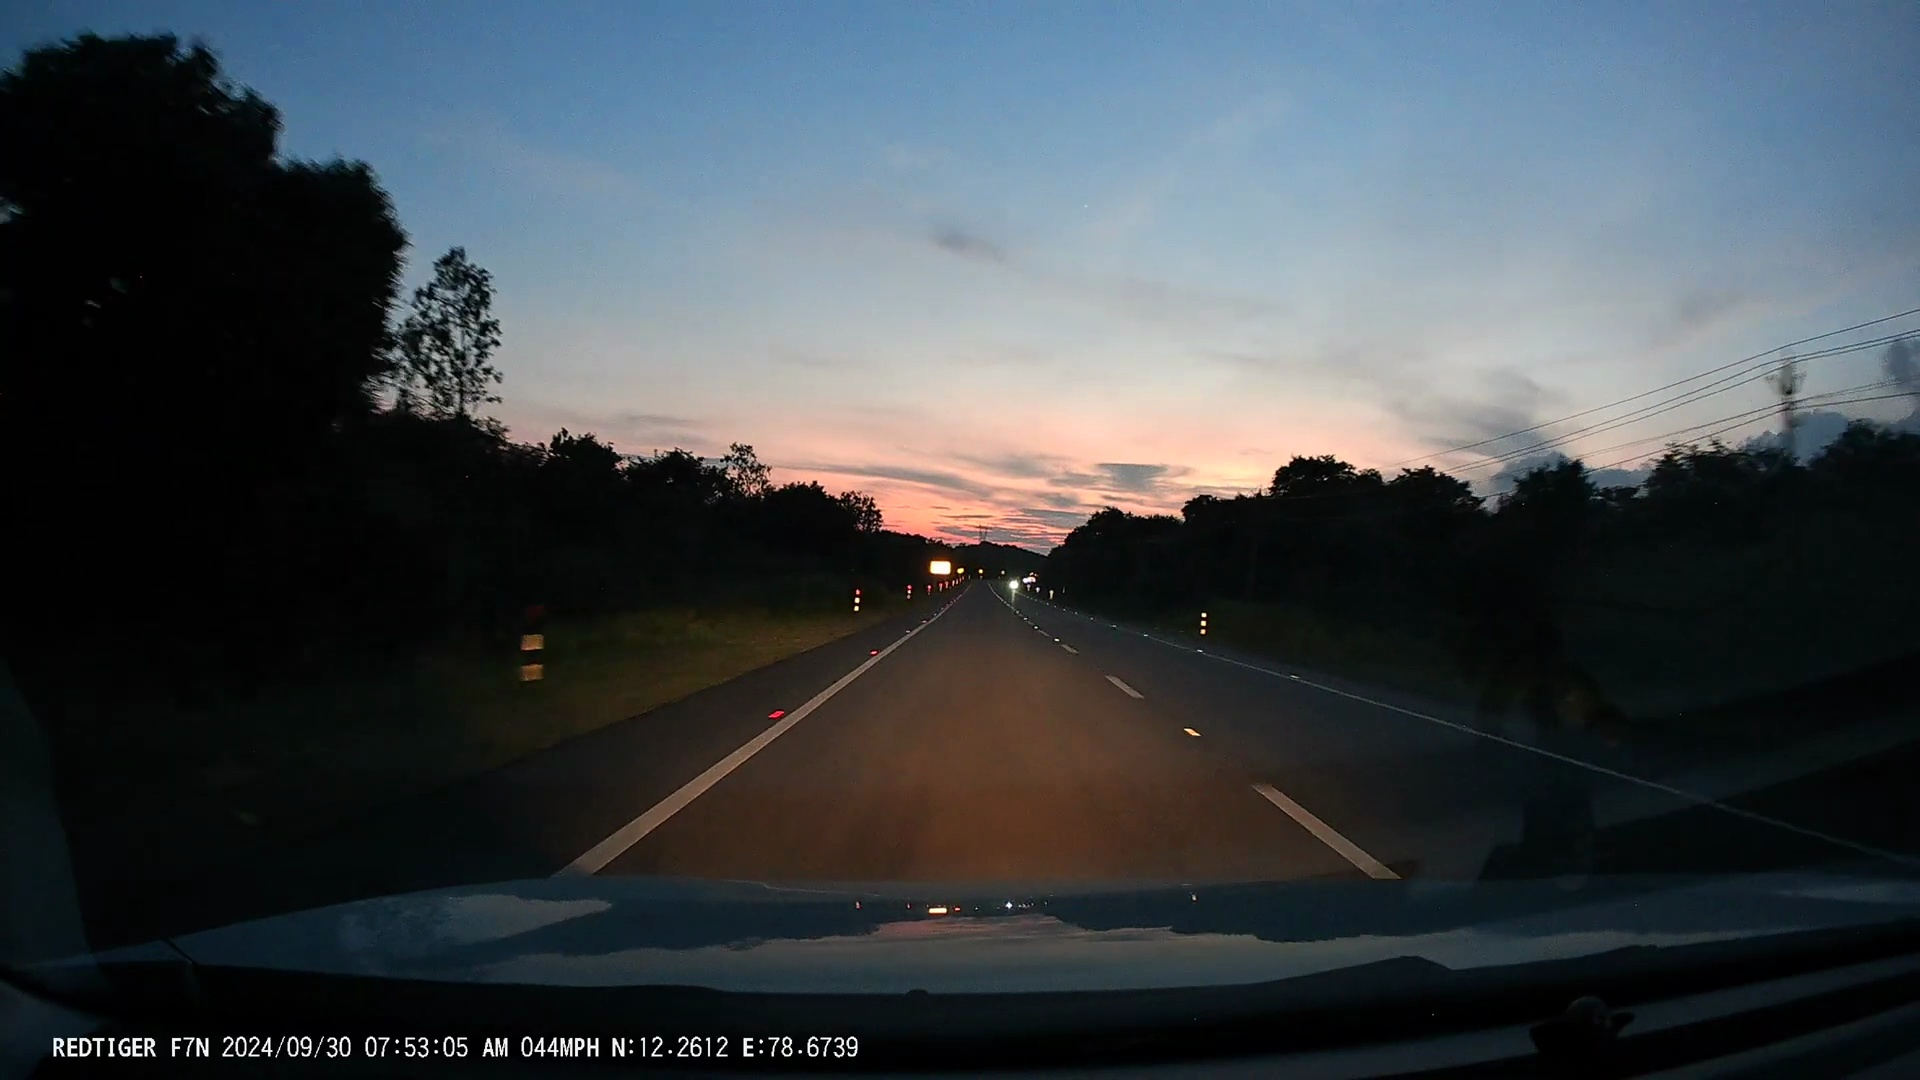headlight: (1007, 580, 1021, 589)
two wheeler: (1004, 574, 1023, 596)
